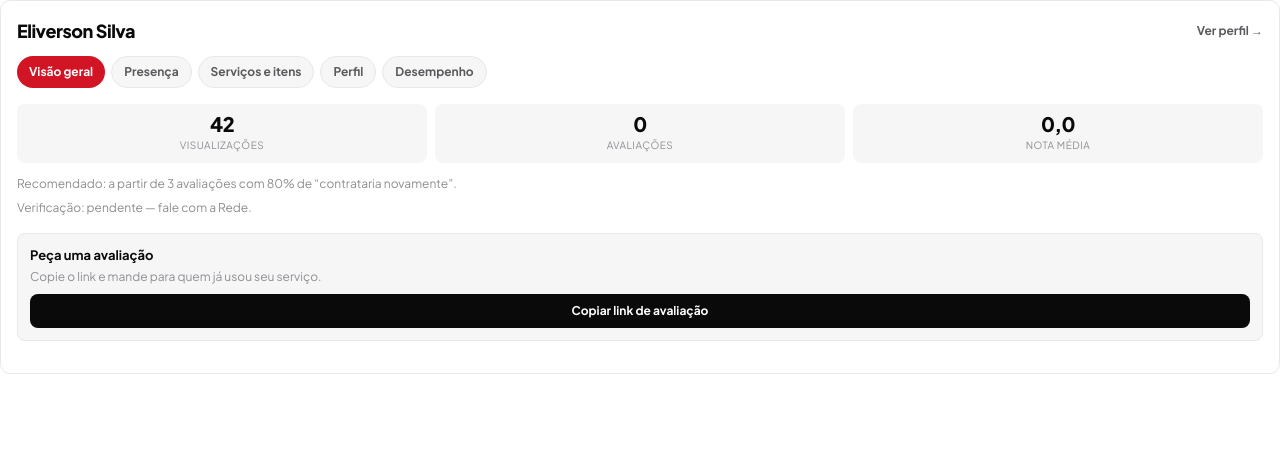
Scenario: PainelClient — itens dentro do serviço › abre o editor de edição do serviço ao clicar em Editar antes de expandir itens
This screenshot has width=1280, height=475.
Click the button "Serviços e itens" at point(256, 72), box [198,56,314,88]
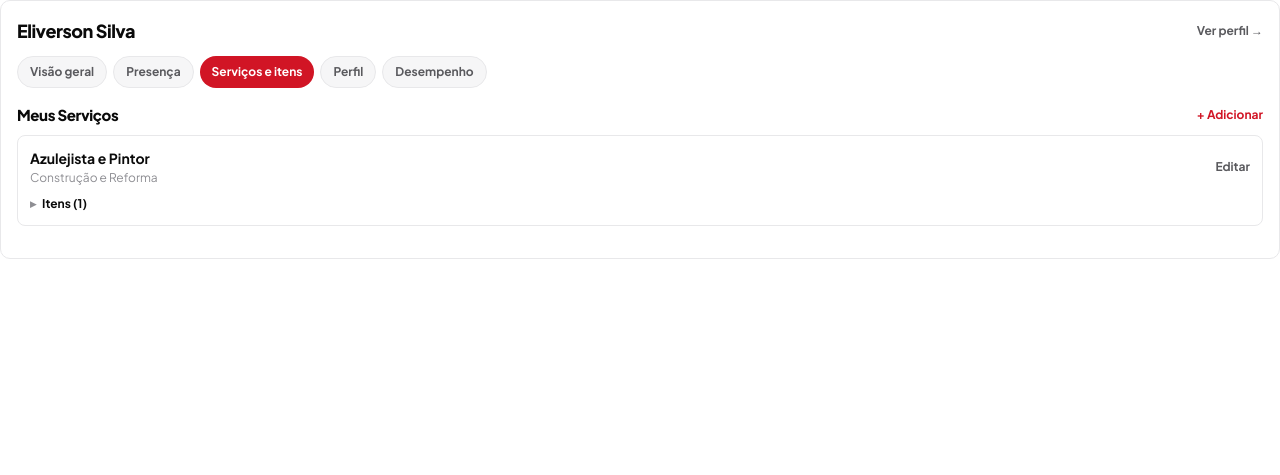
// Itens ainda colapsados — único "Editar" visível é o do serviço
Click the button "Editar" at point(1233, 167), box [1215,158,1250,176]
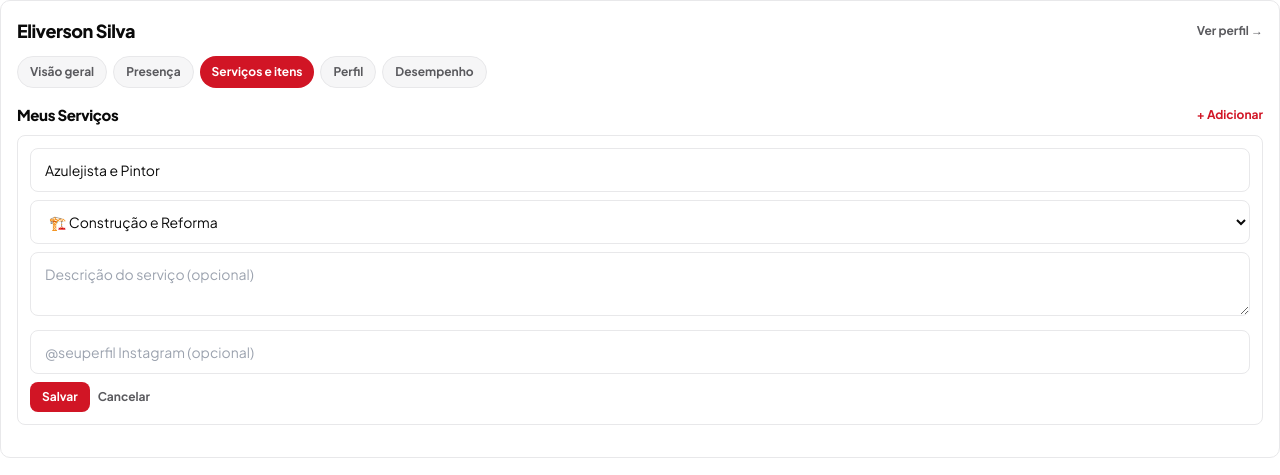
Expected: the field showing "Azulejista e Pintor" is shown, [30,148,1250,192]
